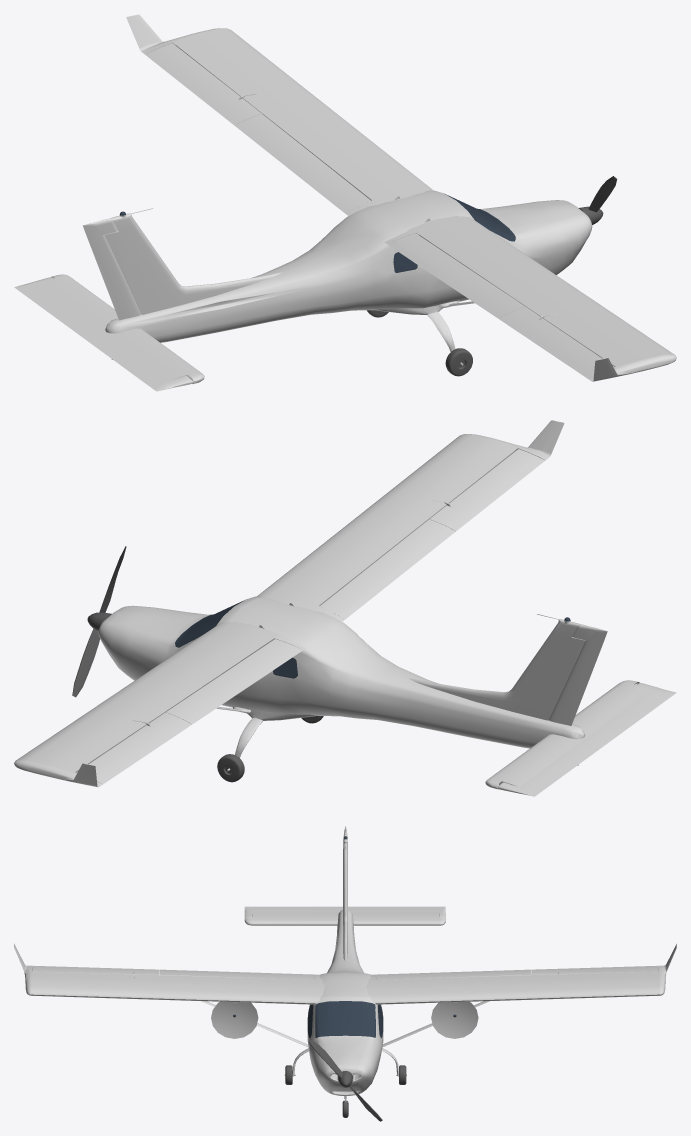
The model's file is jab.glb.
The picture shows the model from 3 angles, top to bottom: view 1: azimuth 30°, elevation 25°; view 2: azimuth 150°, elevation 25°; view 3: azimuth 270°, elevation 25°; orthographic projection. The views are drawn at different scales.
Visible parts, largest first — view 1: body, glass, trim, spin; view 2: body, spin, glass, trim; view 3: body, glass, spin.
Part boxes in pixels (<box>): body: <box>14,14,676,391</box>; glass: <box>120,193,515,272</box>; trim: <box>367,310,472,376</box>; spin: <box>579,176,617,224</box>; body: <box>14,420,676,796</box>; spin: <box>72,546,126,697</box>; glass: <box>175,600,570,678</box>; trim: <box>217,716,323,782</box>; body: <box>14,826,676,1102</box>; glass: <box>233,836,456,1038</box>; spin: <box>309,1039,382,1121</box>.
Bounding box in the file's own units: 1.41 × 0.5353 × 2.2.
